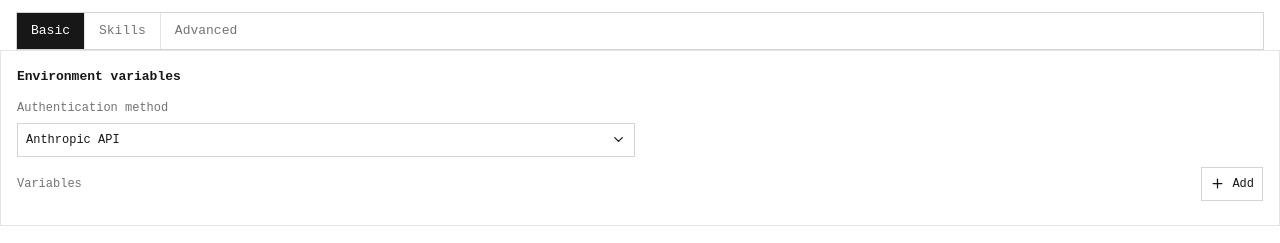
Test: AgentProfileEditor › allows choosing a folder and manually adding a skill source path
This screenshot has width=1280, height=243.
Click the tab "Skills" at (123, 31), box [85,13,161,49]
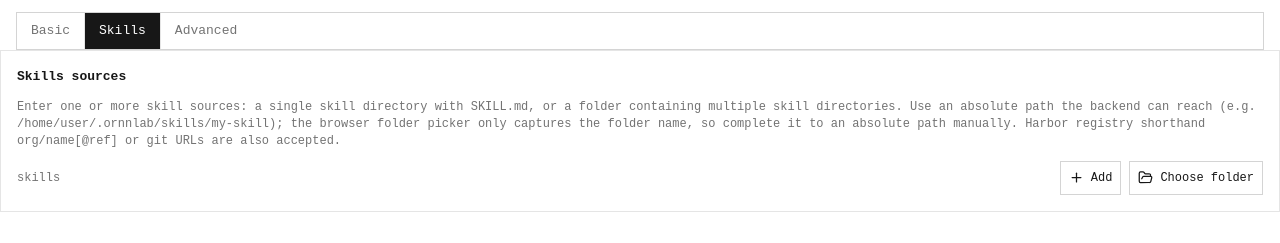
Check: the button "Add" is shown, box [1060,161,1121,195]
Check: the button "Choose folder" is shown, box [1129,161,1263,195]
